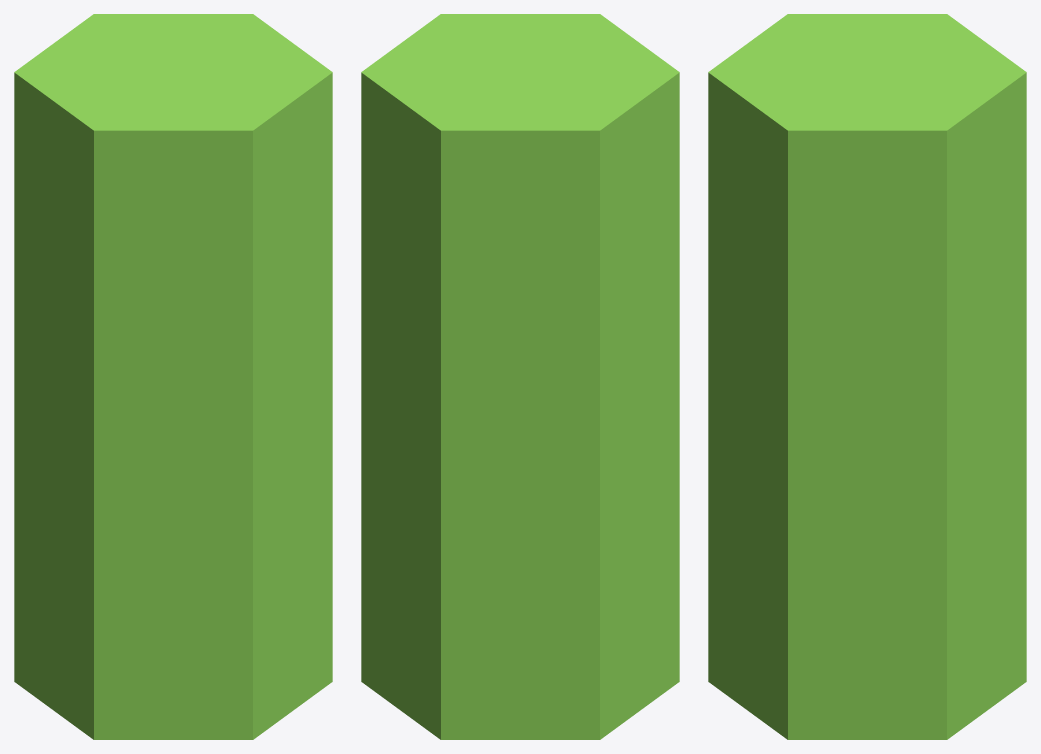
Rendered from filltank.fbx.
3 views of the same model, side by side, from view 1: azimuth 30°, elevation 25°; view 2: azimuth 150°, elevation 25°; view 3: azimuth 270°, elevation 25° (orthographic).
Parts seen in each view (by area): view 1: Circle.004; view 2: Circle.004; view 3: Circle.004.
Boxes of the visible parts, bbox=[...] form: Circle.004: bbox=[14, 14, 332, 739]; Circle.004: bbox=[361, 14, 679, 739]; Circle.004: bbox=[708, 14, 1026, 739].
Size of the model in its own units: 137 by 333 by 158.
